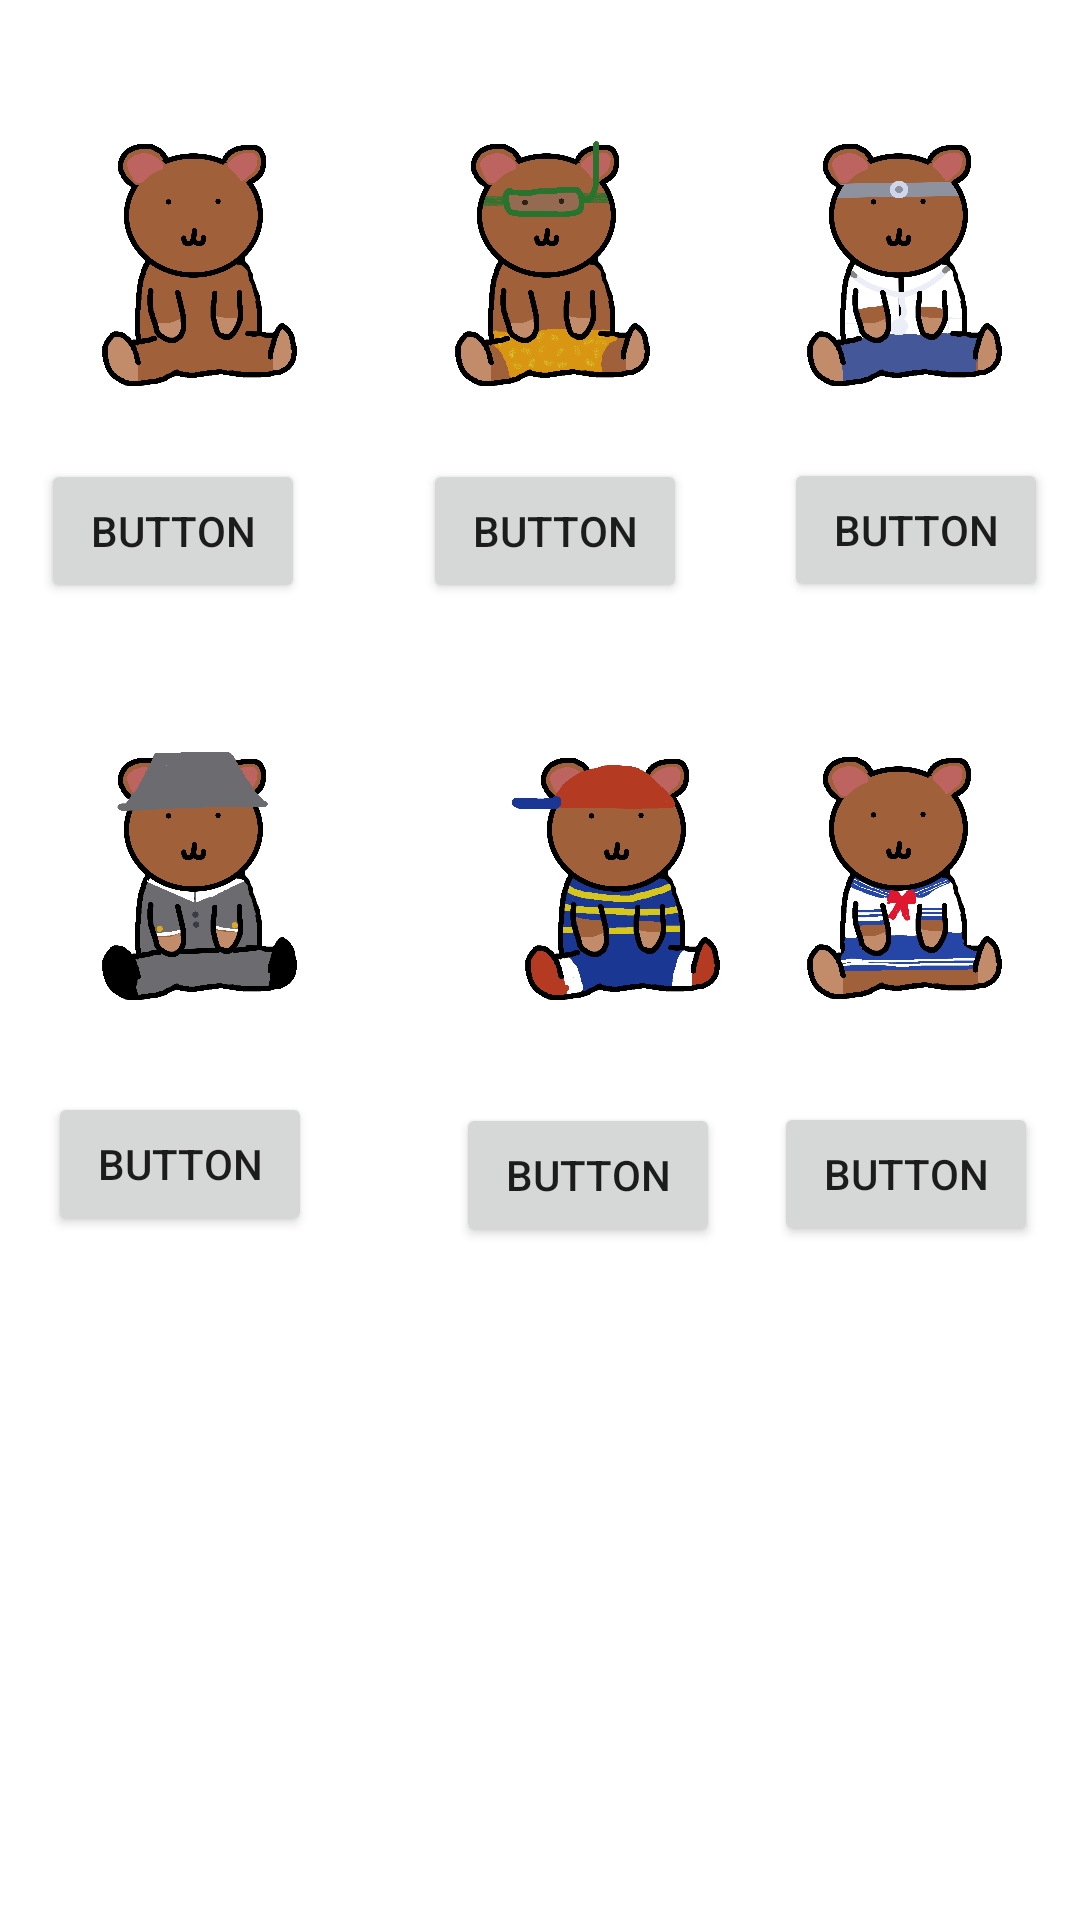

Point at icon controls on the screen. Image size 1080x1920, points as (x=x, y=y).
doctoroutfit: (x=904, y=265)
saloroutfit: (x=904, y=878)
swimoutfit: (x=552, y=263)
